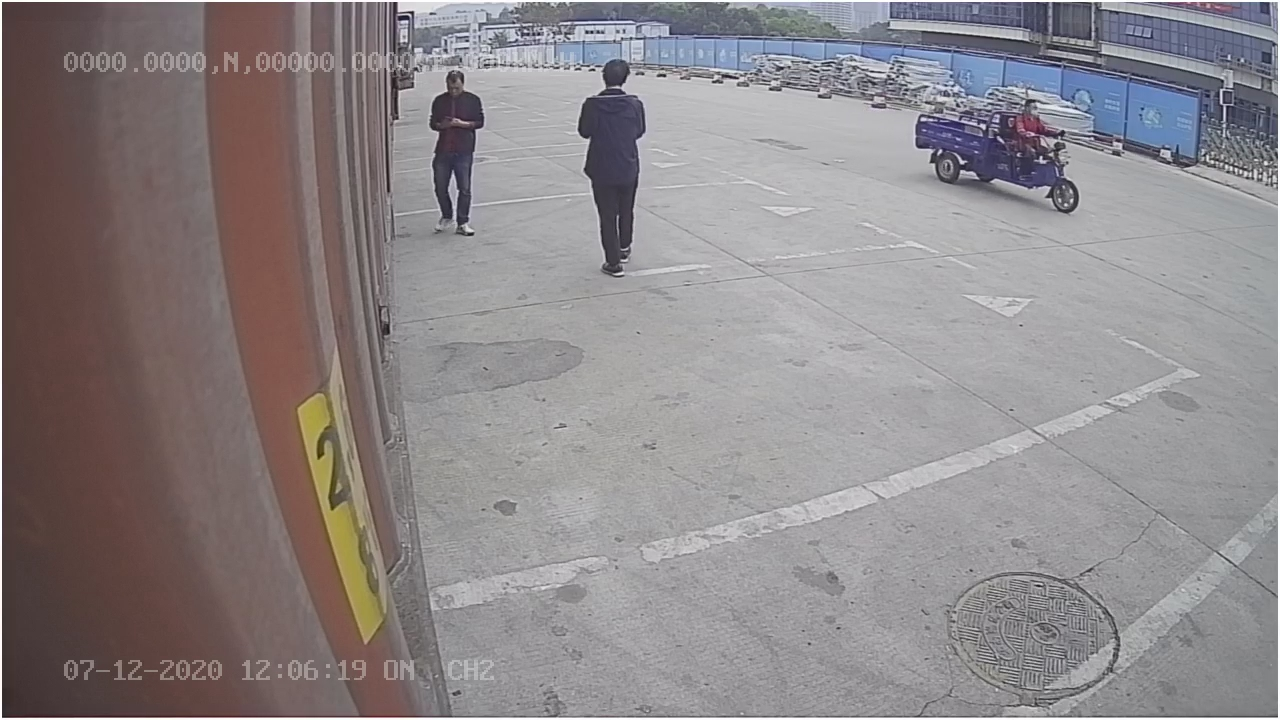person: (573, 55, 648, 278)
